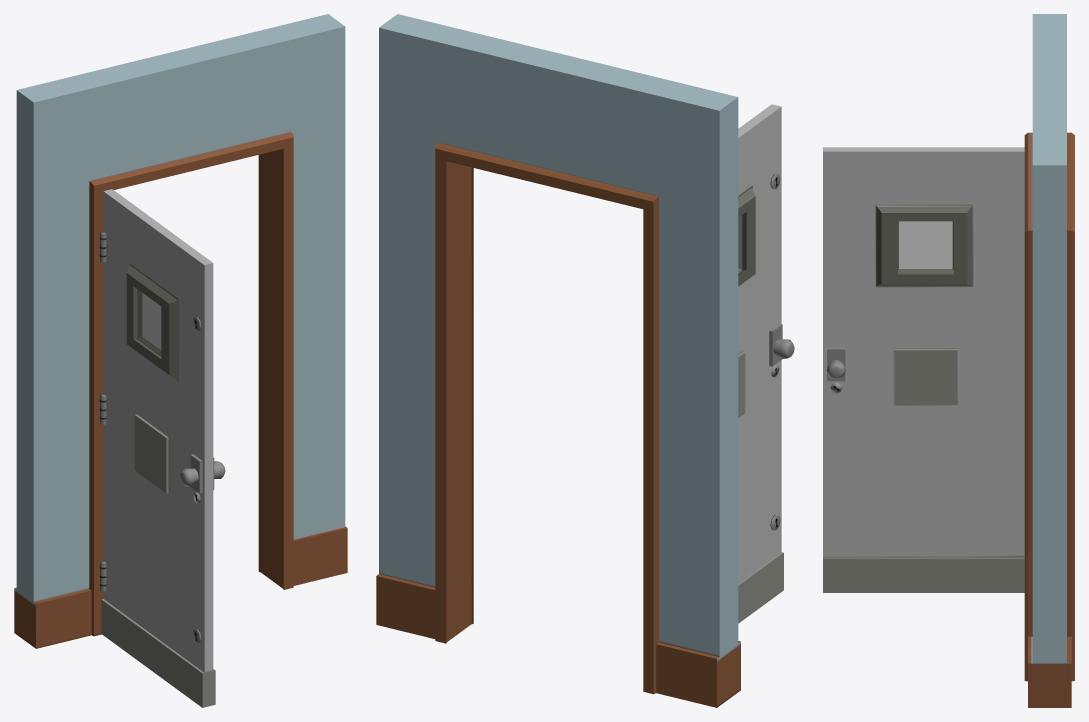
File: door_animation_closing.fbx
The picture shows the model from 3 angles, left to right: view 1: azimuth 30°, elevation 25°; view 2: azimuth 150°, elevation 25°; view 3: azimuth 270°, elevation 25°; orthographic projection. The views are drawn at different scales.
Visible parts, largest first — view 1: walltile_door, Door, scharnieren; view 2: walltile_door, Door; view 3: Door, walltile_door.
Boxes of the visible parts, bbox=[...] form: walltile_door: bbox=[14, 14, 347, 648]; Door: bbox=[101, 189, 225, 707]; scharnieren: bbox=[99, 232, 106, 591]; walltile_door: bbox=[376, 14, 740, 707]; Door: bbox=[738, 104, 794, 623]; Door: bbox=[823, 147, 1024, 592]; walltile_door: bbox=[1024, 14, 1074, 707].
Size of the model in its own units: 8.76 by 14.62 by 6.15.
